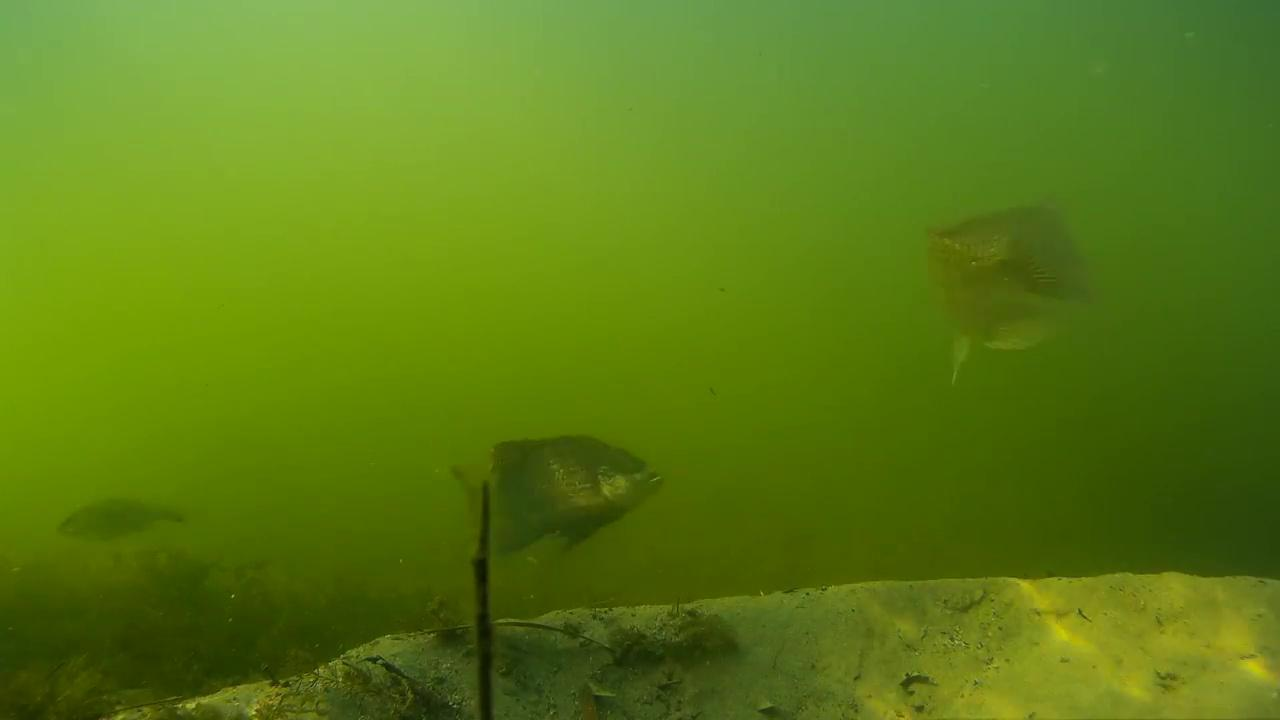Tilapia: (913, 184, 1100, 382), (450, 432, 663, 564), (53, 488, 195, 554)
